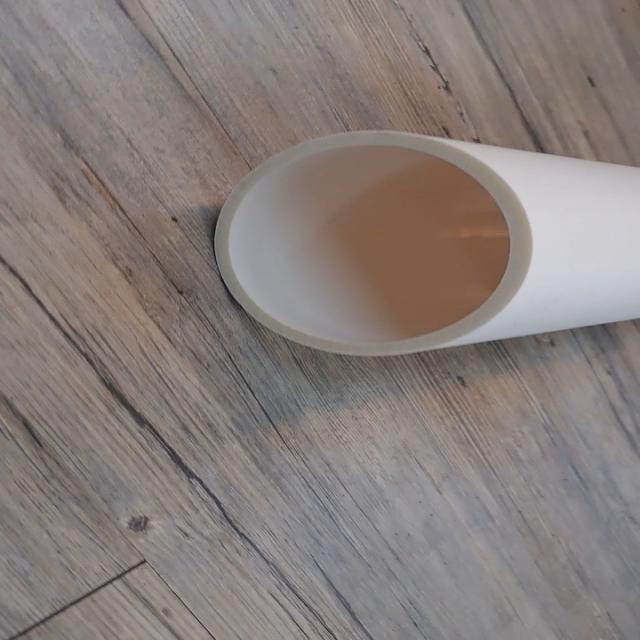CORAL: (193, 117, 640, 360)
